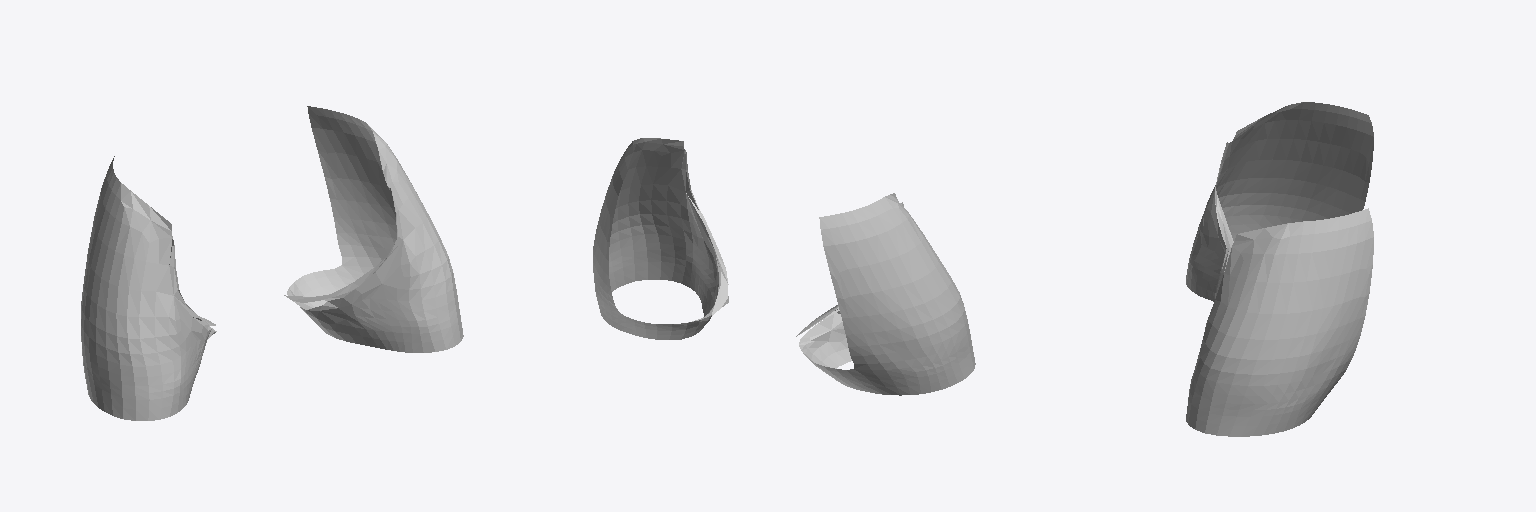
File: legCover.obj
The picture shows the model from 3 angles: view 1: azimuth 30°, elevation 25°; view 2: azimuth 150°, elevation 25°; view 3: azimuth 270°, elevation 25°; orthographic projection.
Parts seen in each view (by area): view 1: ????; view 2: ????; view 3: ????.
Boxes of the visible parts, x1=… form: ????: x1=81, y1=106, x2=463, y2=420; ????: x1=593, y1=138, x2=975, y2=395; ????: x1=1186, y1=102, x2=1373, y2=436.
Bounding box in the file's own units: 33.34 × 16.99 × 15.37.